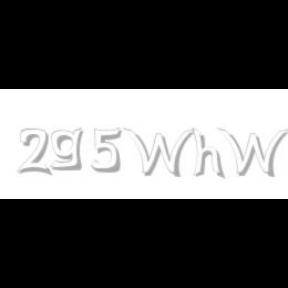2: (16, 128, 50, 176)
5: (91, 128, 122, 174)
W: (122, 128, 194, 178), (217, 128, 288, 177)
g: (51, 128, 88, 171)
h: (192, 128, 226, 180)
